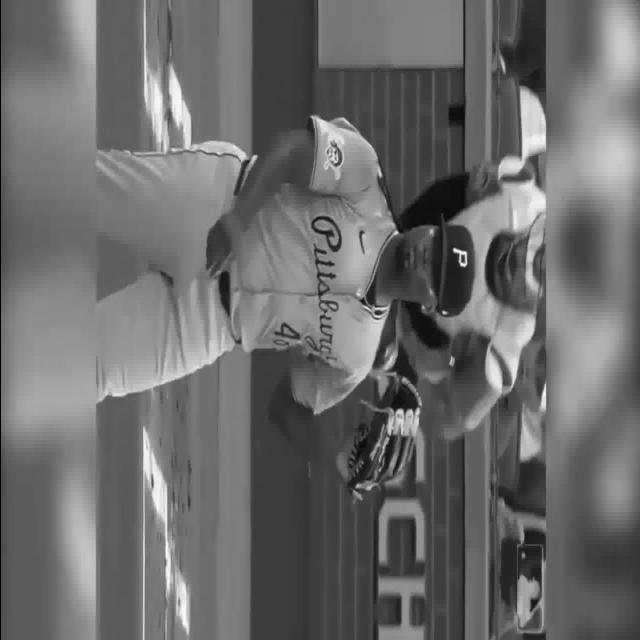baseball_glove: (348, 366, 420, 504)
